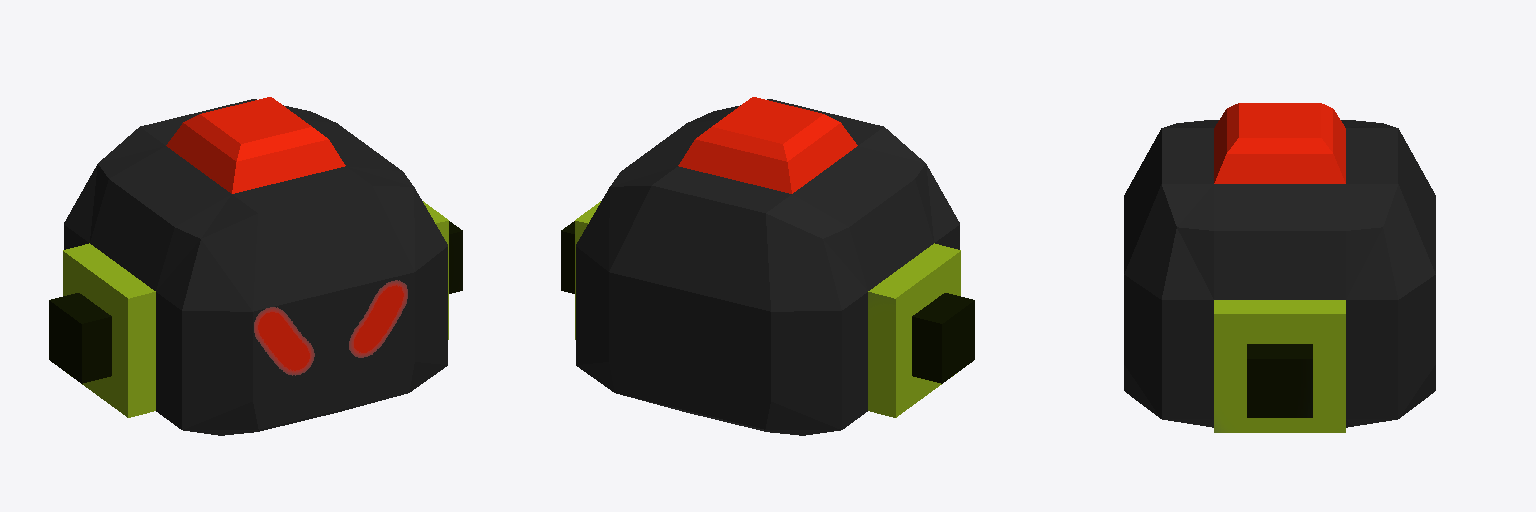
The picture shows the model from 3 angles: view 1: azimuth 30°, elevation 25°; view 2: azimuth 150°, elevation 25°; view 3: azimuth 270°, elevation 25°; orthographic projection.
Parts seen in each view (by area): view 1: Body; view 2: Body; view 3: Body.
Part boxes in pixels (bbox=[...]): Body: bbox=[49, 97, 462, 435]; Body: bbox=[561, 97, 974, 435]; Body: bbox=[1124, 103, 1435, 432].
Size of the model in its own units: 1.35 by 0.9152 by 0.9531.
1 materials, 1 textured.